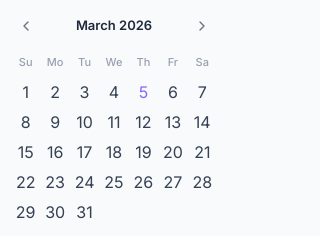
Test: DatePicker › prev/next buttons change the month
What coordinates should you click on to do the following:
click the button named "Previous month"
I would click on:
 (26, 26)
Its box is [12, 12, 40, 40].
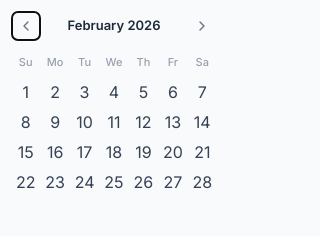
Expected: the text "February 2026" is shown, [68, 16, 160, 36]
What coordinates should you click on to do the following:
click the button named "Next month"
I would click on:
 (202, 26)
Its box is [188, 12, 216, 40].
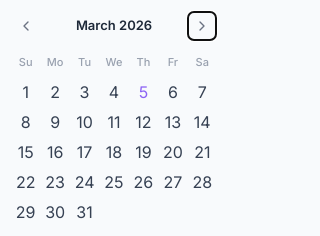
Expected: the text "March 2026" is shown, [76, 16, 152, 36]
